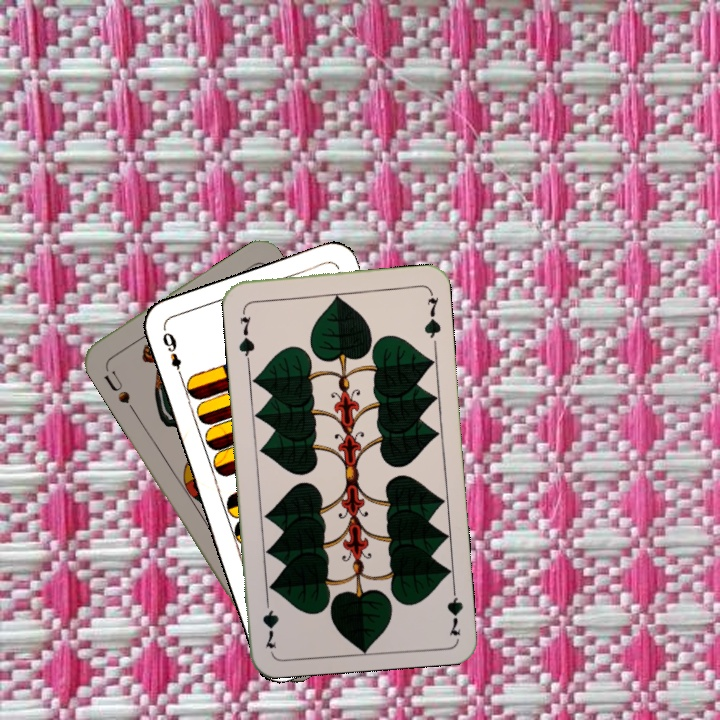E9: (158, 325, 186, 383)
G7: (234, 303, 258, 363), (443, 578, 466, 638)
SU: (100, 361, 133, 407)
